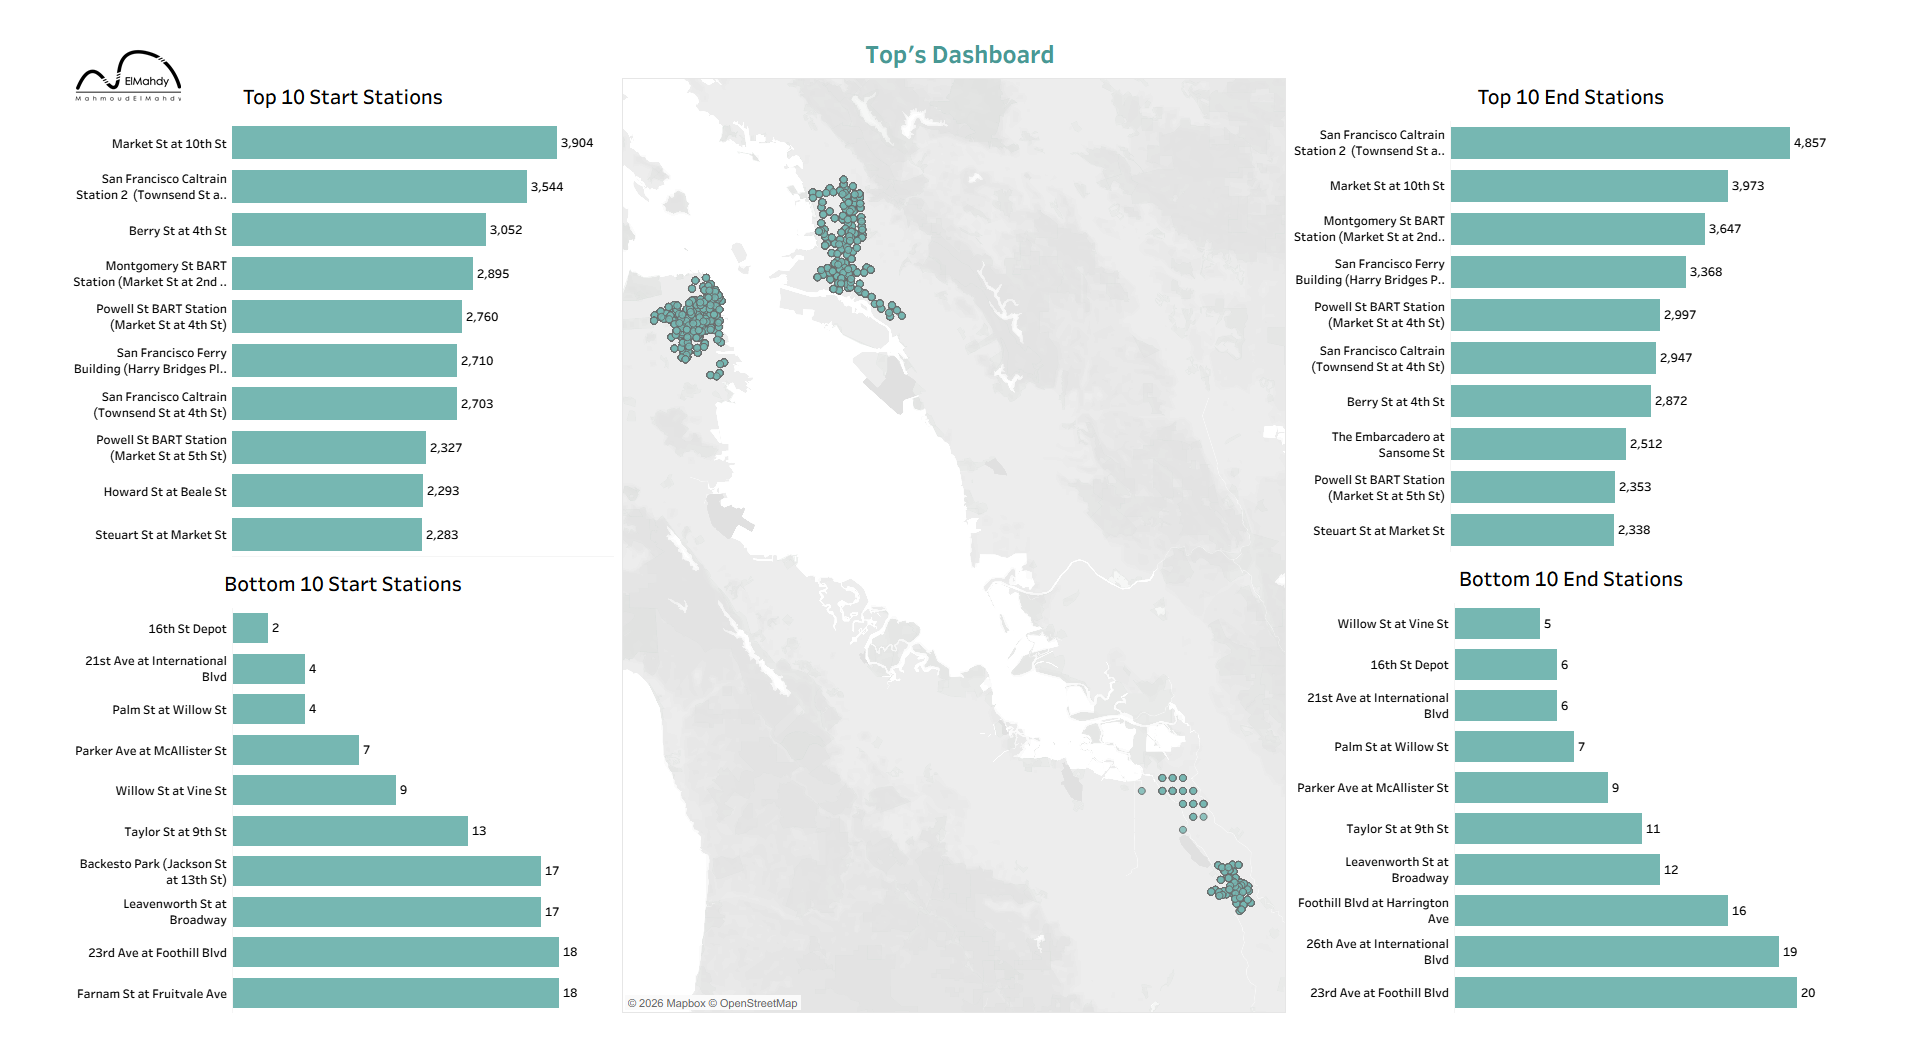

The dashboard page shown, as its layout file describes it:
{"tool":"tableau","page":{"name":"Top's Dashboard","canvas":[1000,1000],"units":"permille","ordinal":1},"visuals":[{"type":"image","param":"Image/1.png","box":[6.1,4.7,63.3,89.6]},{"type":"title","box":[4.4,9.5,991.1,48.4]},{"type":"worksheet","title":"Top 10 Start Stations","mark":"Automatic","rows":["start_station_name"],"cols":["start_station_name"],"box":[4.4,57.9,305.8,481.3]},{"type":"worksheet","title":"Stations Map","mark":"Multipolygon","rows":["start_station_latitude"],"cols":["start_station_longitude"],"box":[310.2,57.9,373.3,932.7]},{"type":"worksheet","title":"Top 10 End Stations","mark":"Automatic","rows":["end_station_name"],"cols":["end_station_name"],"box":[683.5,57.9,312.1,476.6]},{"type":"worksheet","title":"Bottom 10 End Stations","mark":"Automatic","rows":["end_station_name"],"cols":["end_station_name"],"box":[683.5,534.4,312.1,456.1]},{"type":"worksheet","title":"Bottom 10 Start Stations","mark":"Automatic","rows":["start_station_name"],"cols":["start_station_name"],"box":[4.4,539.2,305.8,451.4]}]}

Visuals, with their boxes on the dashboard's canvas, which has no fixed pixel size, in thousandths of its width and height (x1, y1, x2, y2). These are canvas units, not pixel positions in the 1920x1050 screenshot, which may show the page scaled, cropped or inside an application window:
image: <bbox>6, 5, 69, 94</bbox>
title: <bbox>4, 10, 996, 58</bbox>
"Top 10 Start Stations" worksheet: <bbox>4, 58, 310, 539</bbox>
"Stations Map" worksheet (Multipolygon marks): <bbox>310, 58, 684, 991</bbox>
"Top 10 End Stations" worksheet: <bbox>684, 58, 996, 534</bbox>
"Bottom 10 End Stations" worksheet: <bbox>684, 534, 996, 990</bbox>
"Bottom 10 Start Stations" worksheet: <bbox>4, 539, 310, 991</bbox>
